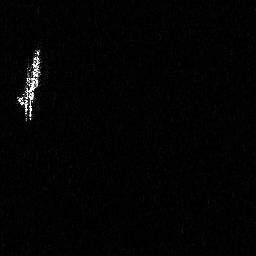ship: (15, 44, 40, 123)
